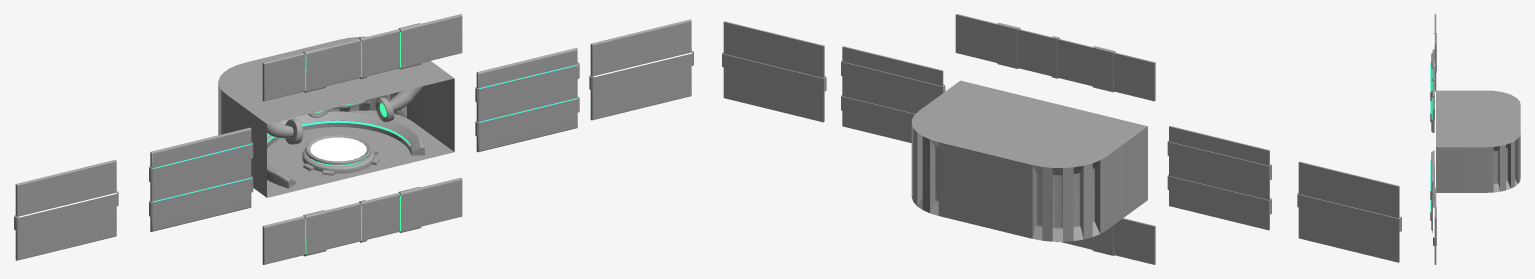
Rendered from Shirt_scene_1.fbx.
The picture shows the model from 3 angles, left to right: view 1: azimuth 30°, elevation 25°; view 2: azimuth 150°, elevation 25°; view 3: azimuth 270°, elevation 25°; orthographic projection. The views are drawn at different scales.
Parts seen in each view (by area): view 1: Chest_interior, door_1_r, door_1_l, door_2_t, door_2_b, door_3_l, door_3_r, ring_floor, pads, pipes; view 2: Chest_interior, door_1_l, door_2_t, door_3_l, door_3_r, door_1_r, door_2_b; view 3: Chest_interior, door_2_t, door_1_r, door_3_r, door_3_l, door_1_l, door_2_b.
Boxes of the visible parts, bbox=[...] form: Chest_interior: bbox=[218, 36, 454, 197]; door_1_r: bbox=[475, 48, 579, 152]; door_1_l: bbox=[149, 127, 253, 231]; door_2_t: bbox=[262, 14, 462, 101]; door_2_b: bbox=[262, 177, 462, 264]; door_3_l: bbox=[14, 159, 118, 260]; door_3_r: bbox=[589, 19, 693, 120]; ring_floor: bbox=[267, 111, 424, 188]; pads: bbox=[302, 99, 379, 175]; pipes: bbox=[267, 86, 423, 144]; Chest_interior: bbox=[911, 80, 1147, 241]; door_1_l: bbox=[1167, 126, 1271, 230]; door_2_t: bbox=[955, 14, 1155, 101]; door_3_l: bbox=[1297, 161, 1401, 262]; door_3_r: bbox=[722, 21, 826, 122]; door_1_r: bbox=[841, 46, 945, 142]; door_2_b: bbox=[1055, 218, 1155, 264]; Chest_interior: bbox=[1436, 90, 1520, 192]; door_2_t: bbox=[1431, 49, 1434, 132]; door_1_r: bbox=[1430, 151, 1433, 230]; door_3_r: bbox=[1433, 187, 1436, 264]; door_3_l: bbox=[1433, 14, 1436, 91]; door_1_l: bbox=[1430, 53, 1432, 132]; door_2_b: bbox=[1432, 150, 1434, 233].
Size of the model in its own units: 105 by 30.1 by 19.51.
